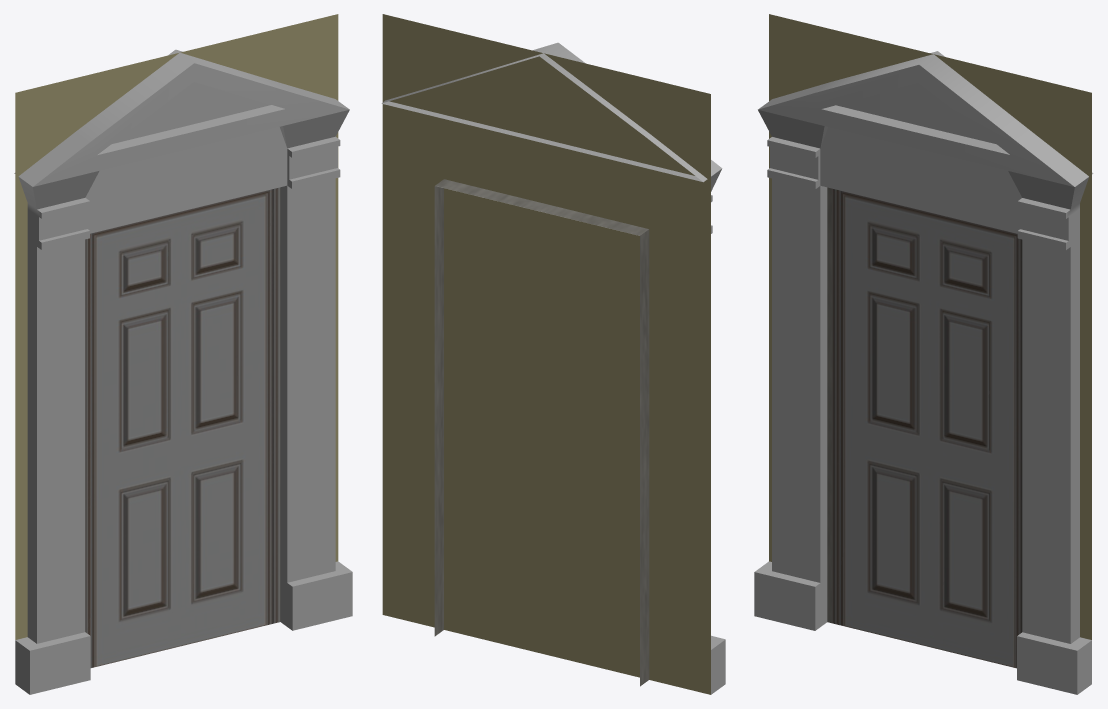
Rendered from Wood_Door.fbx.
The picture shows the model from 3 angles, left to right: view 1: azimuth 30°, elevation 25°; view 2: azimuth 150°, elevation 25°; view 3: azimuth 330°, elevation 25°; orthographic projection.
Visible parts, largest first — view 1: Wood_Door; view 2: Wood_Door; view 3: Wood_Door.
Boxes of the visible parts, bbox=[...] form: Wood_Door: bbox=[14, 14, 352, 694]; Wood_Door: bbox=[381, 14, 725, 694]; Wood_Door: bbox=[754, 14, 1093, 694].
Size of the model in its own units: 2 by 3.5 by 0.2554.
